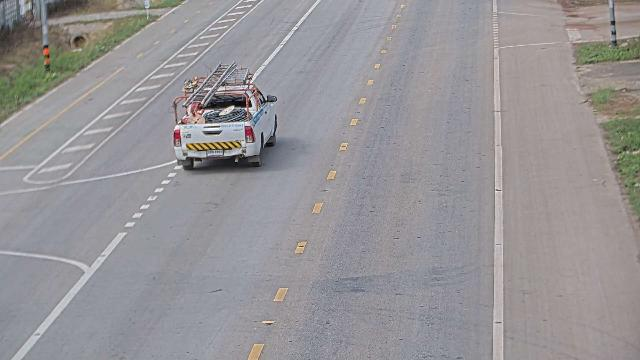pickup-truck: (171, 60, 278, 170)
